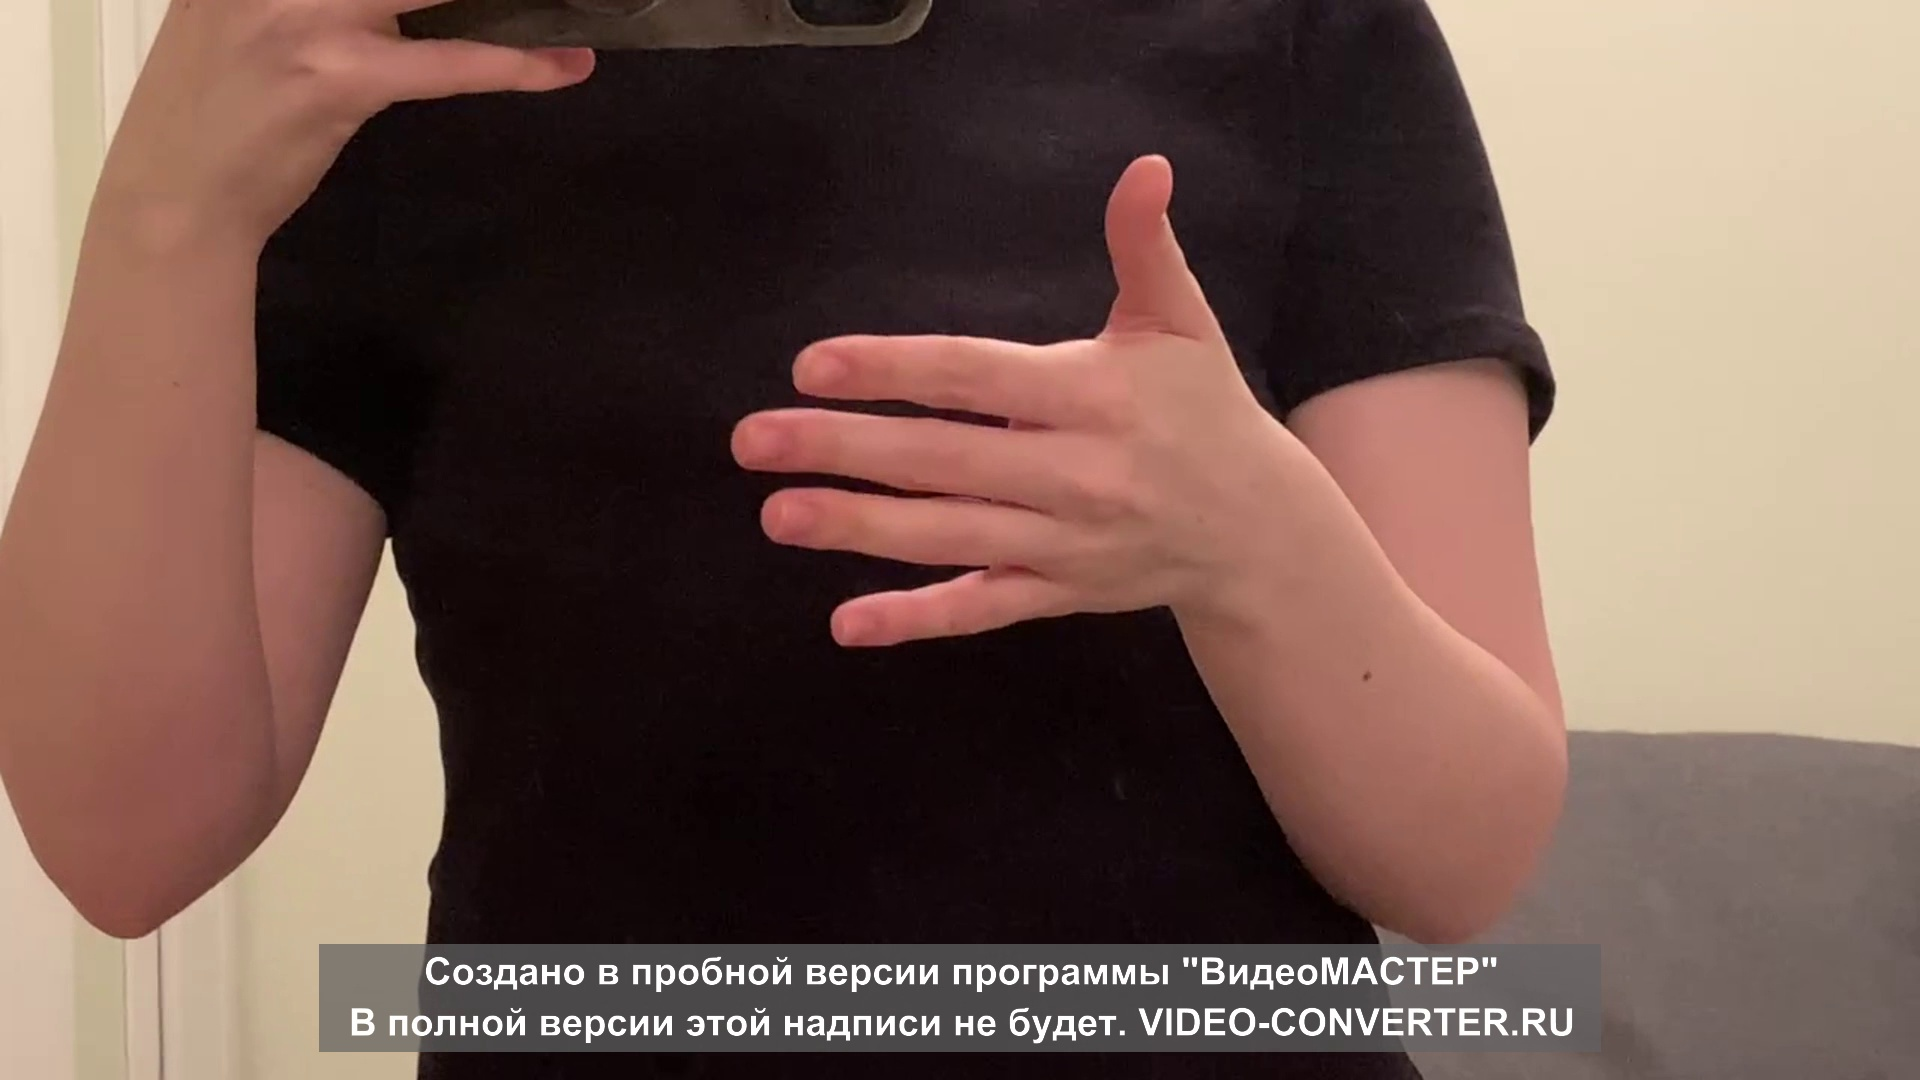Кисть: (731, 150, 1238, 642)
